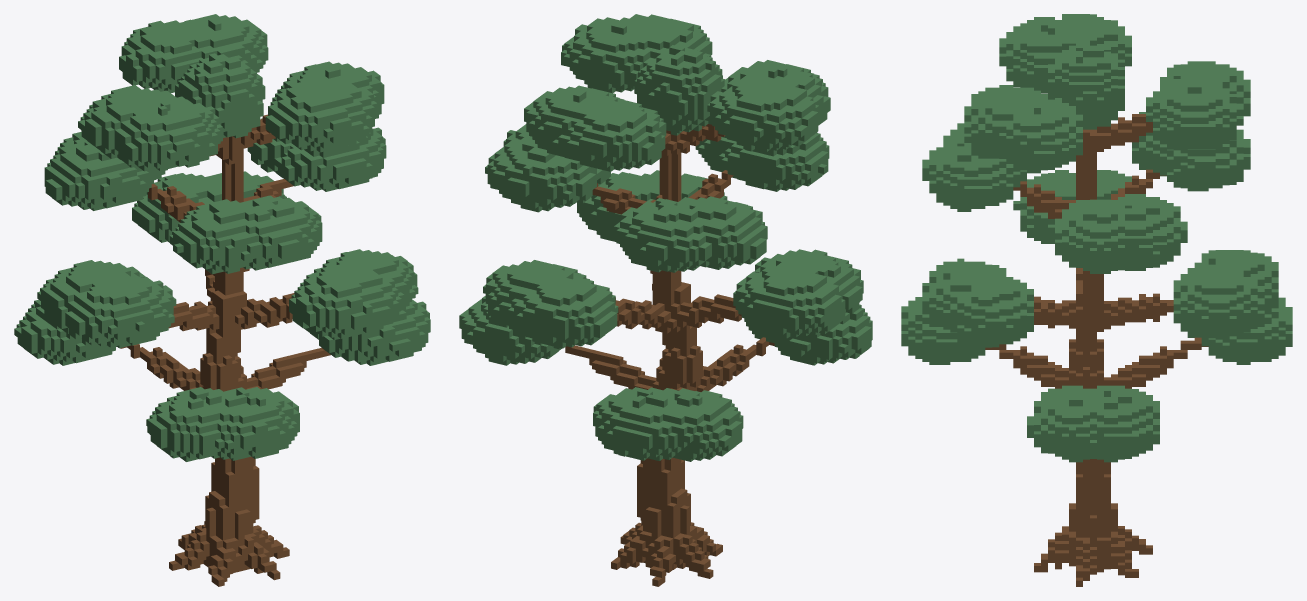
3 views of the same model, side by side, from view 1: azimuth 30°, elevation 25°; view 2: azimuth 150°, elevation 25°; view 3: azimuth 270°, elevation 25° (orthographic).
Parts seen in each view (by area): view 1: 既有乔木色阶与高度族; view 2: 既有乔木色阶与高度族; view 3: 既有乔木色阶与高度族.
Boxes of the visible parts, <box> form: 既有乔木色阶与高度族: <box>14,14,430,586</box>; 既有乔木色阶与高度族: <box>459,14,872,586</box>; 既有乔木色阶与高度族: <box>901,14,1292,586</box>.
Bounding box in the file's own units: 11.8 × 16 × 11.2.
3 materials, 3 textured.
